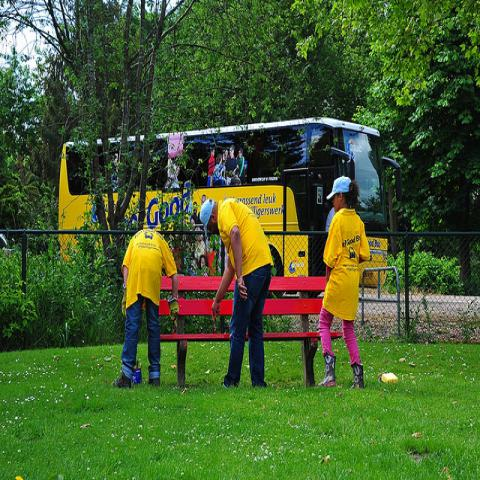bus: (60, 119, 392, 290)
